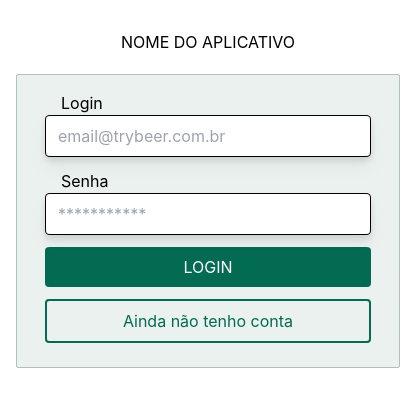
Test: Test the Login page › Test login in › with invalid credentials
Type "tests@email.com" into the field labelled "Login" at (208, 136), box [45, 115, 371, 157]
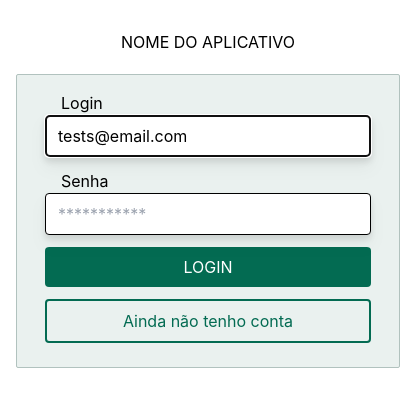
Type "1234567" into the password field labelled "Senha" at (208, 214), box [45, 193, 371, 235]
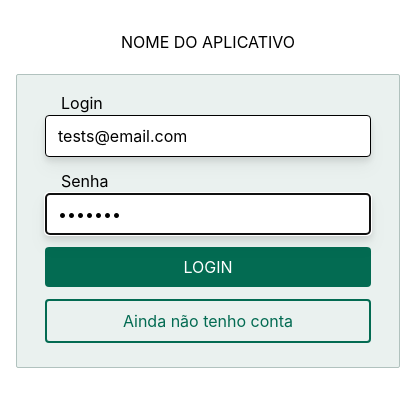
Click the button "LOGIN" at (208, 267), box [45, 247, 371, 287]
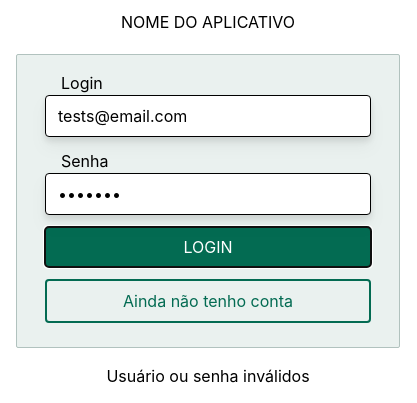
Expected: the text "Usuário ou senha inválidos" is shown, [106, 366, 310, 386]
